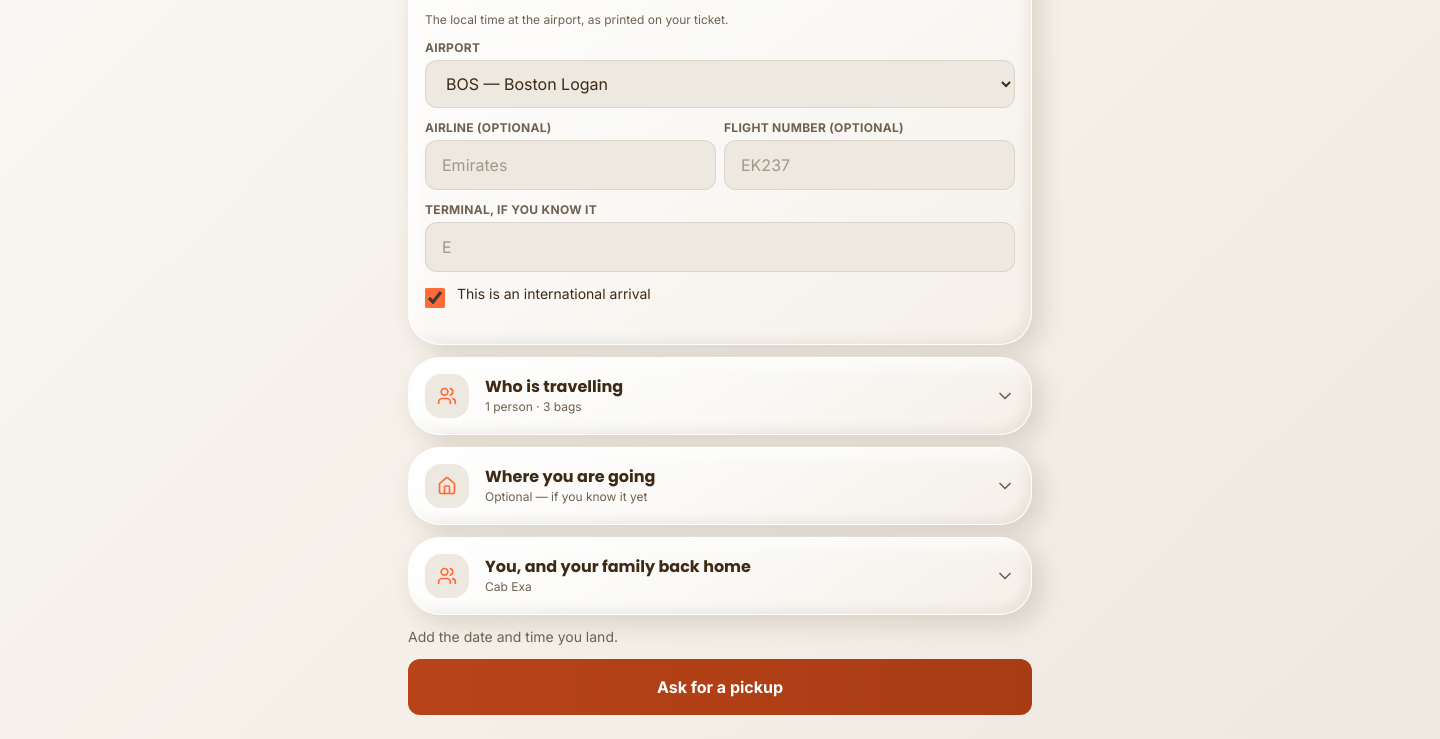
Test case: the phone numbers › shows the privacy line ONCE, not once per number
The width and height of the screenshot is (1440, 739).
(page scrolled)
Click the button "You, and your family back home Cab Exa" at (720, 576), box x1=409 y1=538 x2=1031 y2=614
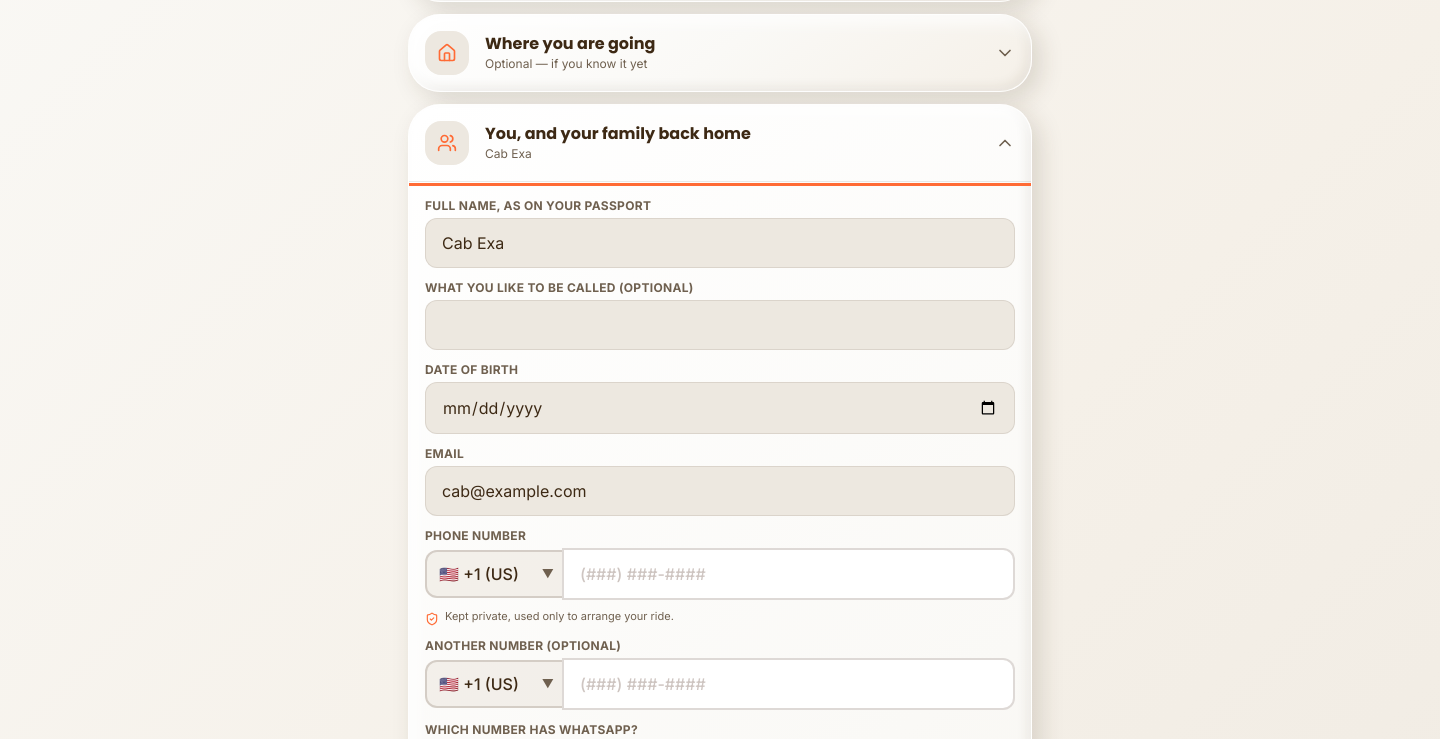
Expected: the text "Kept private, used only to arrange your ride." is shown once, x1=445 y1=610 x2=674 y2=624
